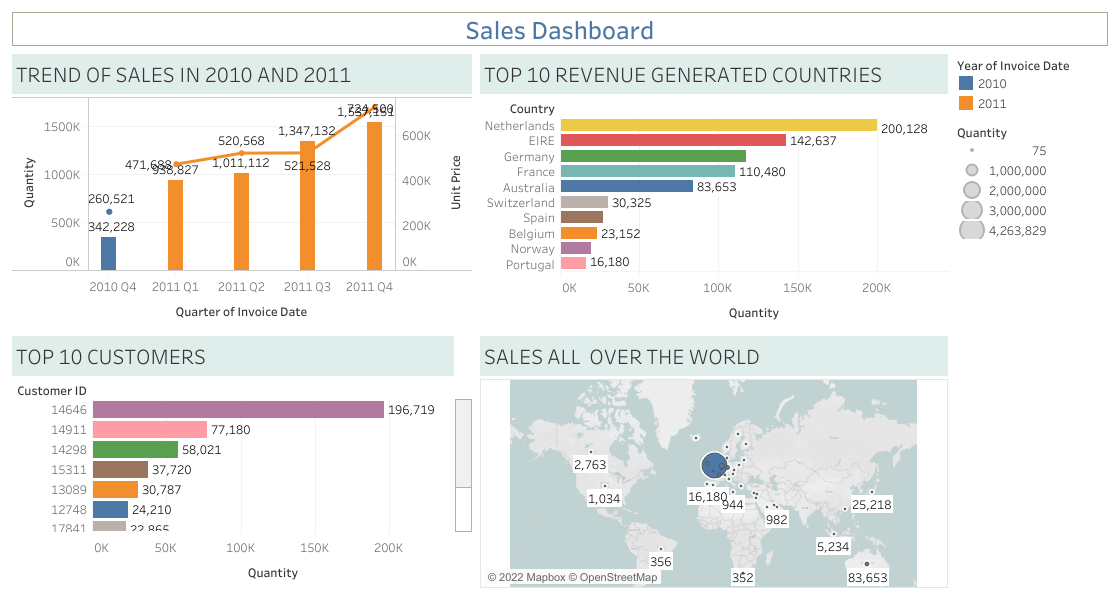

What the dashboard file says about the page in this screenshot:
{"tool":"tableau","page":{"name":"Sales Dashboard","canvas":[1000,1000],"units":"permille","ordinal":0},"visuals":[{"type":"title","box":[7.1,12.6,985.7,64.8]},{"type":"worksheet","title":"TREND OF SALES IN 2010 AND 2011","mark":"Automatic","rows":["Quantity","UnitPrice"],"cols":["InvoiceDate"],"box":[7.1,77.4,417.8,473.4]},{"type":"worksheet","title":"TOP 10 REVENUE GENERATED COUNTRIES","mark":"Automatic","rows":["Country"],"cols":["Quantity"],"box":[425,77.4,425,473.4]},{"type":"legend","title":"TREND OF SALES IN 2010 AND 2011","param":"[federated.00g9li10itu68813hiznk0swudyf].[yr:InvoiceDate:ok]","box":[850,77.4,142.9,104.3]},{"type":"legend","title":"SALES ALL  OVER THE WORLD","param":"[federated.00g9li10itu68813hiznk0swudyf].[sum:Quantity:qk]","box":[850,181.7,142.9,199.1]},{"type":"worksheet","title":"TOP 10 CUSTOMERS ","mark":"Automatic","rows":["CustomerID"],"cols":["Quantity"],"box":[7.1,550.8,417.8,436.6]},{"type":"worksheet","title":"SALES ALL  OVER THE WORLD","mark":"Automatic","box":[425,550.8,425,436.6]}]}

Visuals, with their boxes on the dashboard's canvas, which has no fixed pixel size, in thousandths of its width and height (x1, y1, x2, y2). These are canvas units, not pixel positions in the 1119x599 screenshot, which may show the page scaled, cropped or inside an application window:
title: region(7, 13, 993, 77)
"TREND OF SALES IN 2010 AND 2011" worksheet: region(7, 77, 425, 551)
"TOP 10 REVENUE GENERATED COUNTRIES" worksheet: region(425, 77, 850, 551)
"TREND OF SALES IN 2010 AND 2011" legend: region(850, 77, 993, 182)
"SALES ALL  OVER THE WORLD" legend: region(850, 182, 993, 381)
"TOP 10 CUSTOMERS " worksheet: region(7, 551, 425, 987)
"SALES ALL  OVER THE WORLD" worksheet: region(425, 551, 850, 987)
